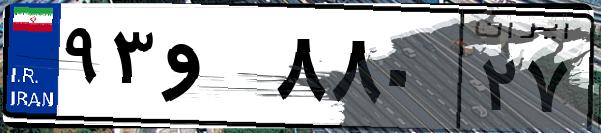0: (385, 28, 445, 110)
2: (475, 38, 525, 113)
3: (110, 28, 158, 98)
7: (525, 38, 570, 115)
8: (270, 28, 330, 110), (330, 28, 385, 110)
9: (57, 26, 110, 100)
و: (158, 20, 270, 120)
